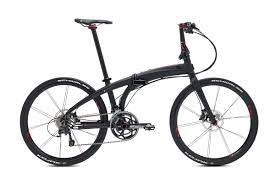bicycle: (13, 11, 261, 174)
